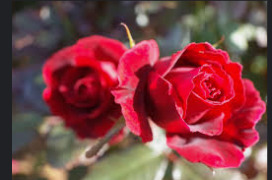RedRose: (117, 38, 259, 169), (41, 35, 129, 137)
